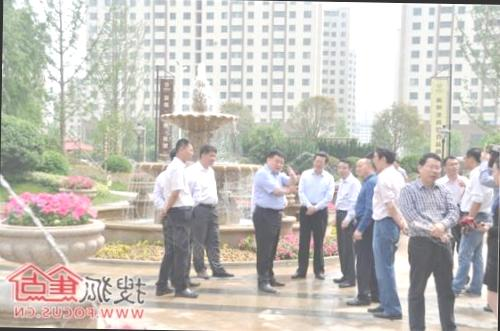no_helmet: (370, 142, 398, 172), (416, 151, 442, 183), (172, 135, 196, 163), (198, 144, 220, 172), (263, 148, 286, 174), (441, 153, 462, 180), (353, 155, 376, 178), (335, 154, 352, 180), (311, 148, 328, 172)
